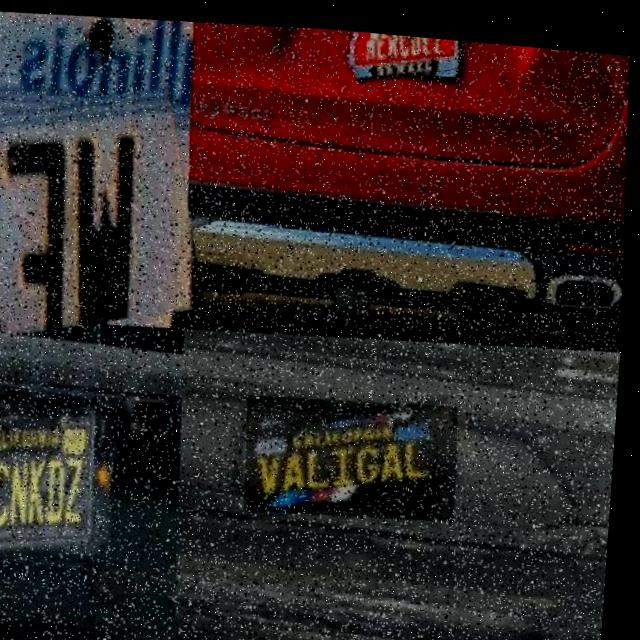LicensePlate: (0, 78, 209, 340), (252, 397, 461, 505), (0, 391, 126, 558), (356, 28, 467, 70)
